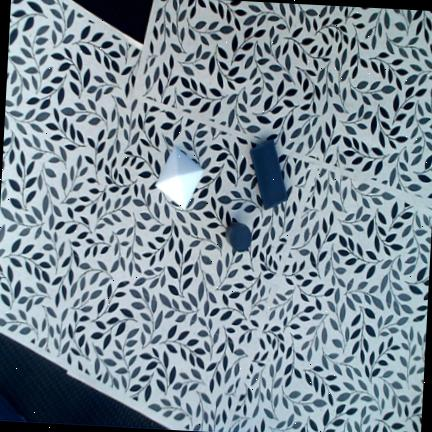Cilindro: (225, 222, 252, 251)
Paralelepipedo: (249, 140, 287, 211), (239, 237, 239, 237)
Piramide: (155, 145, 205, 211)
